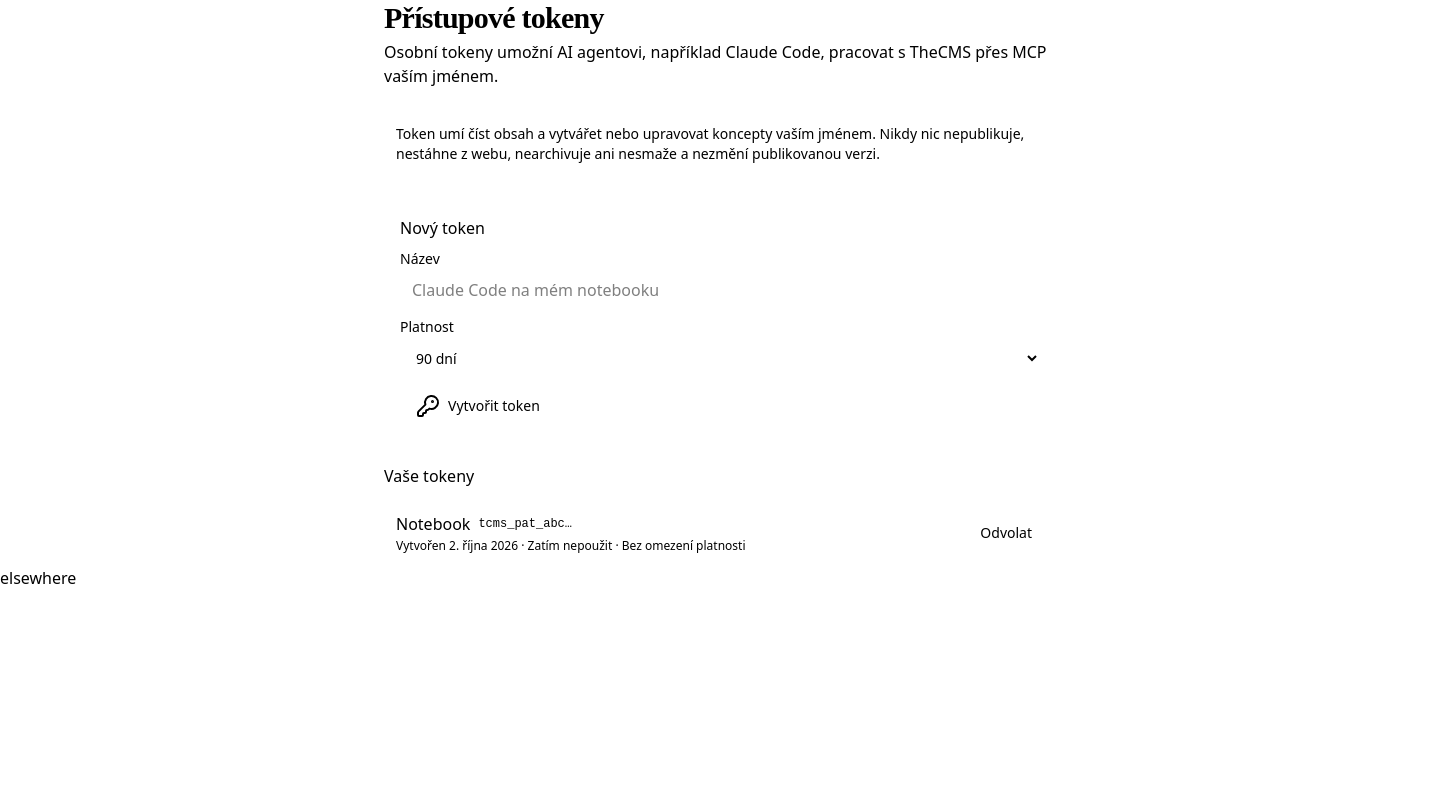
Test case: uses a Czech word for revoking that differs from Cancel
Click the button with aria-label "Odvolat Notebook". click: [1006, 533]
box: [968, 517, 1044, 549]
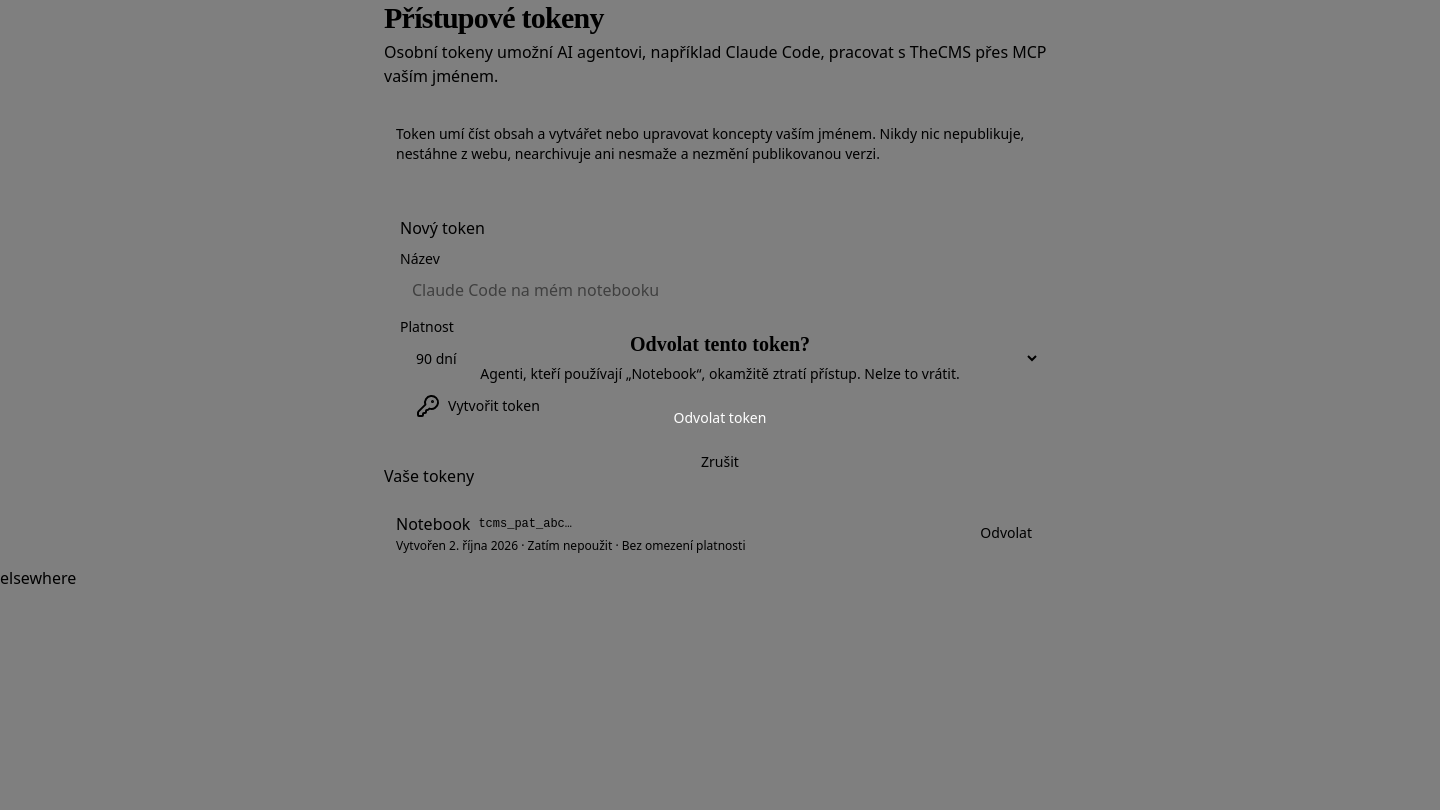
Expected: the button "Odvolat token" is shown, [40, 400, 1400, 436]
Expected: the heading reads "Odvolat tento token?", [630, 333, 810, 355]
